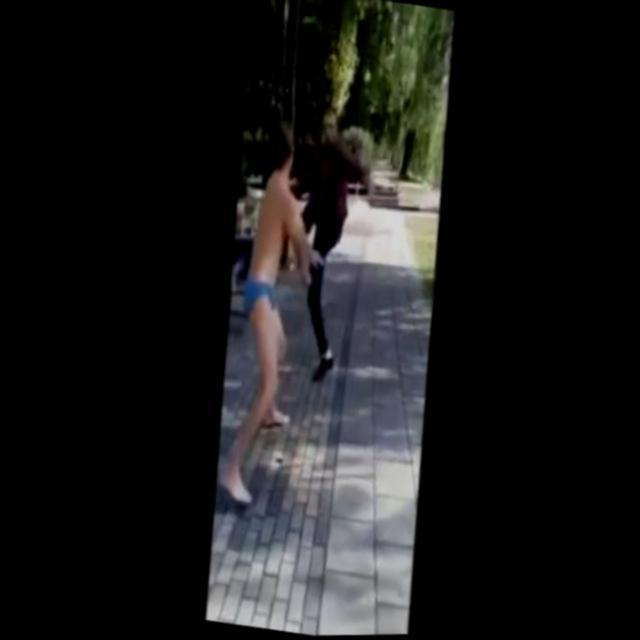fight: (193, 92, 392, 521)
